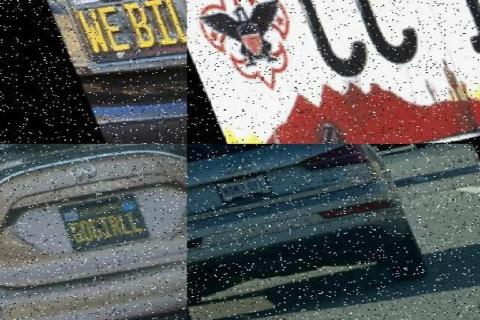LicensePlate: (259, 0, 480, 120), (51, 0, 186, 88), (57, 190, 149, 258), (212, 173, 272, 205)
